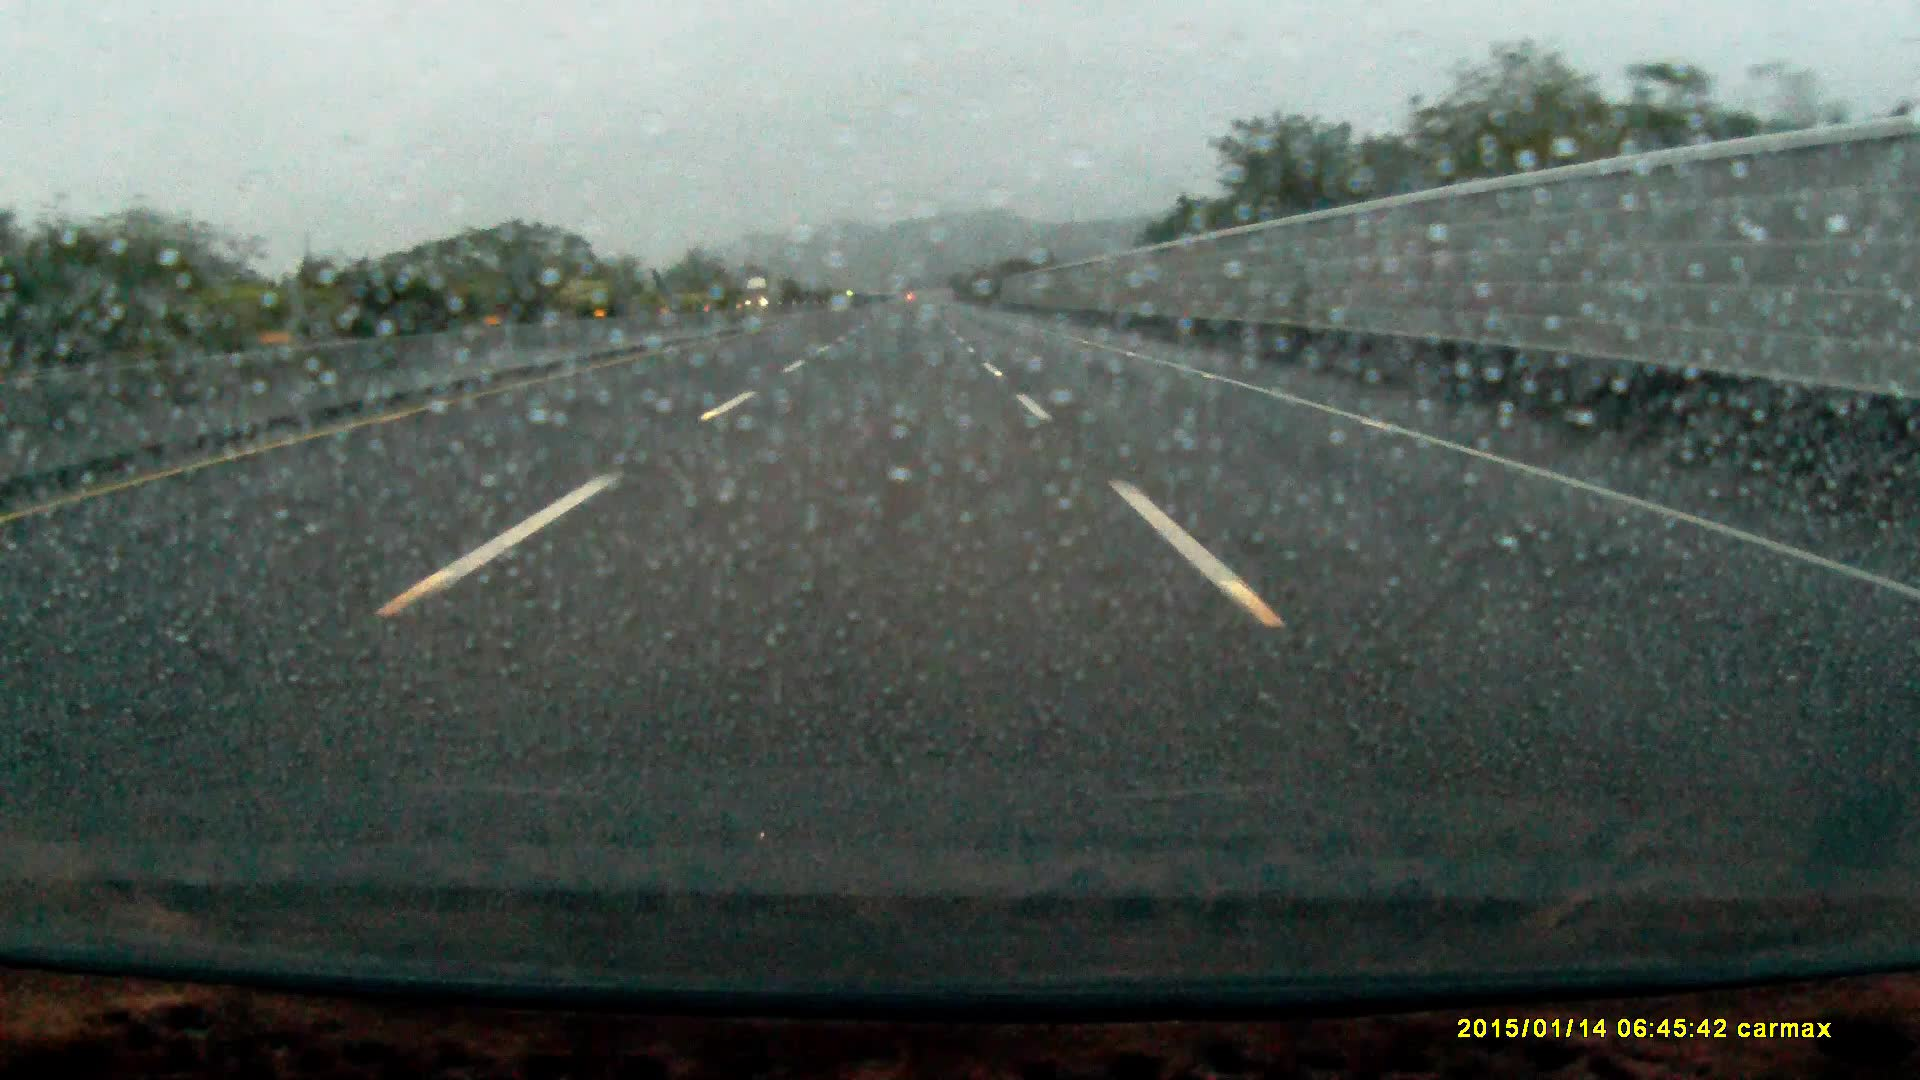vehicle: (745, 277, 777, 309)
